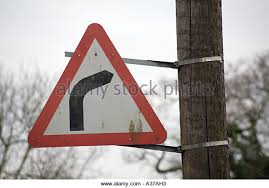Bend_to_right: (21, 21, 170, 149)
